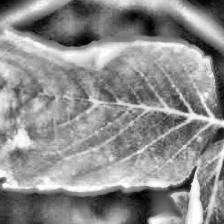Powdery Mildew Leaf: (0, 22, 224, 197), (176, 133, 224, 224)
